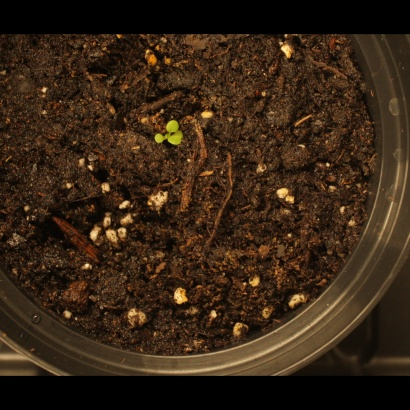leaf: (145, 130, 168, 153), (156, 114, 179, 137), (167, 133, 190, 156), (173, 123, 196, 146)
